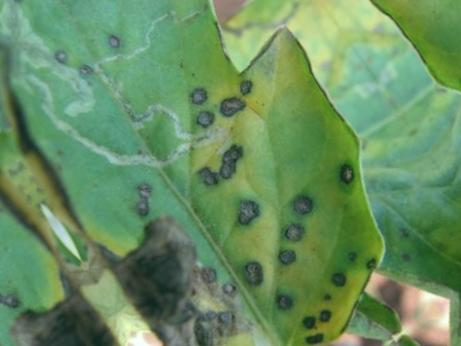Tomato Septoria leaf spot: (0, 0, 457, 346)
